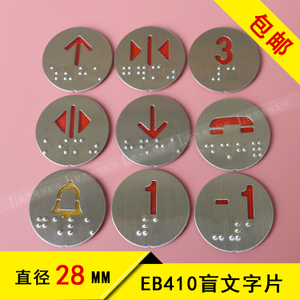Braille: (227, 220, 244, 243), (211, 217, 225, 244), (246, 219, 260, 243), (35, 214, 49, 237), (153, 215, 167, 238), (136, 215, 149, 239), (251, 139, 265, 161), (205, 142, 218, 164), (235, 141, 248, 163), (57, 136, 70, 157), (139, 137, 152, 158), (169, 135, 181, 157), (84, 216, 96, 238), (42, 136, 54, 157), (155, 136, 167, 157), (221, 141, 233, 162), (52, 216, 63, 238), (123, 138, 135, 158), (68, 216, 79, 237), (87, 137, 99, 156), (92, 63, 103, 83), (165, 64, 177, 82), (210, 65, 222, 83), (150, 63, 161, 82), (73, 137, 84, 156), (122, 64, 132, 84), (226, 65, 236, 84), (49, 65, 60, 82), (77, 64, 88, 81), (63, 65, 73, 83), (136, 65, 147, 81)
